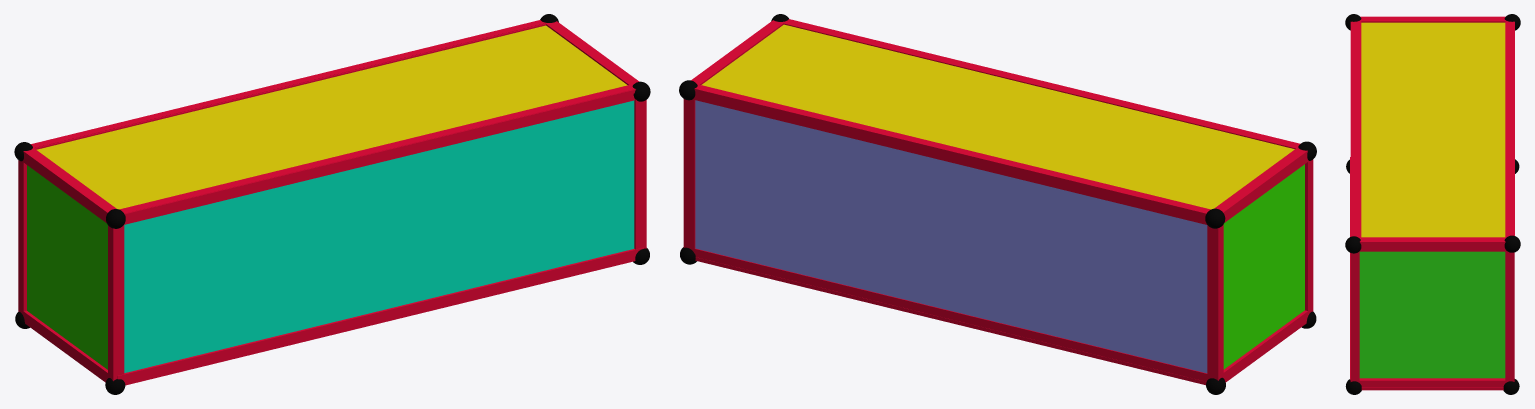
The model's file is balok.glb.
3 renders of one model, left to right at view 1: azimuth 30°, elevation 25°; view 2: azimuth 150°, elevation 25°; view 3: azimuth 270°, elevation 25°, orthographic. The views are drawn at different scales.
Parts seen in each view (by area): view 1: Cube.020, Cube.022, Cube.013, Cube.035, Cube.014, Cube.016, Cube.017; view 2: Cube.019, Cube.022, Cube.013, Cube.035, Cube.017, Cube.014, Cube.016; view 3: Cube.022, Cube.018, Cube.013, Cube.017, Cube.016, Cube.014, Cube.015, Sphere.009, Sphere.011, Sphere.015, Sphere.013.
Boxes of the visible parts, x1,y1,x2,y2 form: Cube.020: (124,100,634,372); Cube.022: (36,25,627,209); Cube.013: (22,20,639,224); Cube.035: (27,165,107,369); Cube.014: (23,247,644,385); Cube.016: (108,89,646,381); Cube.017: (18,23,545,316); Cube.019: (695,100,1207,373); Cube.022: (701,24,1294,209); Cube.013: (691,19,1308,224); Cube.035: (1223,164,1304,369); Cube.017: (683,85,1223,385); Cube.014: (694,248,1307,382); Cube.016: (789,19,1313,315); Cube.022: (1361,22,1505,237); Cube.018: (1359,251,1505,378); Cube.013: (1351,16,1514,251); Cube.017: (1505,21,1514,382); Cube.016: (1350,22,1359,382); Cube.014: (1350,157,1513,390); Cube.015: (1361,387,1503,389); Sphere.009: (1504,235,1520,252); Sphere.011: (1345,236,1361,253); Sphere.015: (1503,379,1519,394); Sphere.013: (1345,379,1361,394).
Size of the model in its own units: 8.84 by 2.88 by 2.86.
